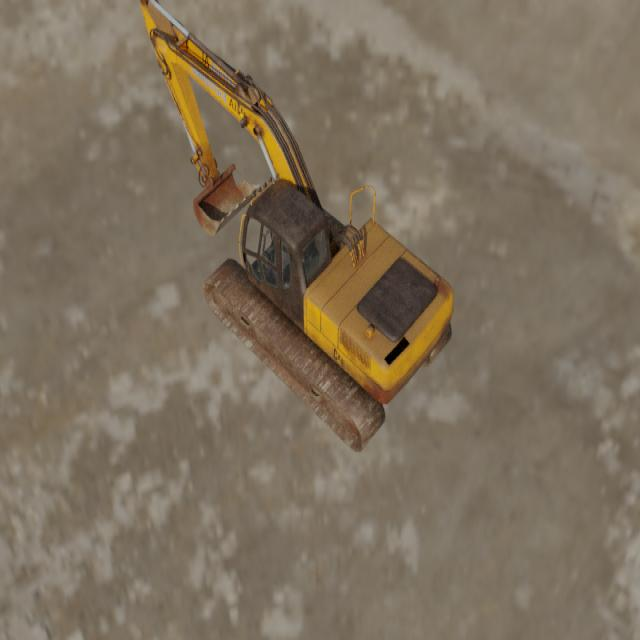excavator: (140, 0, 453, 453)
